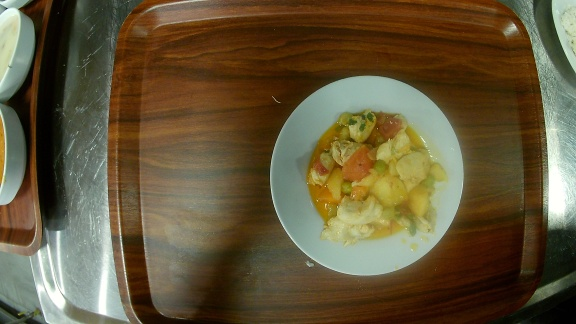bezelyelitavuk: (268, 73, 465, 279)
